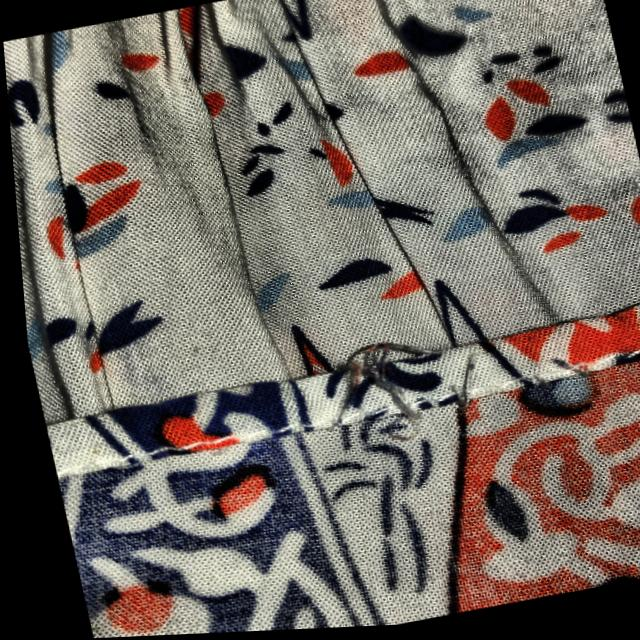Stitch: (249, 279, 534, 513)
